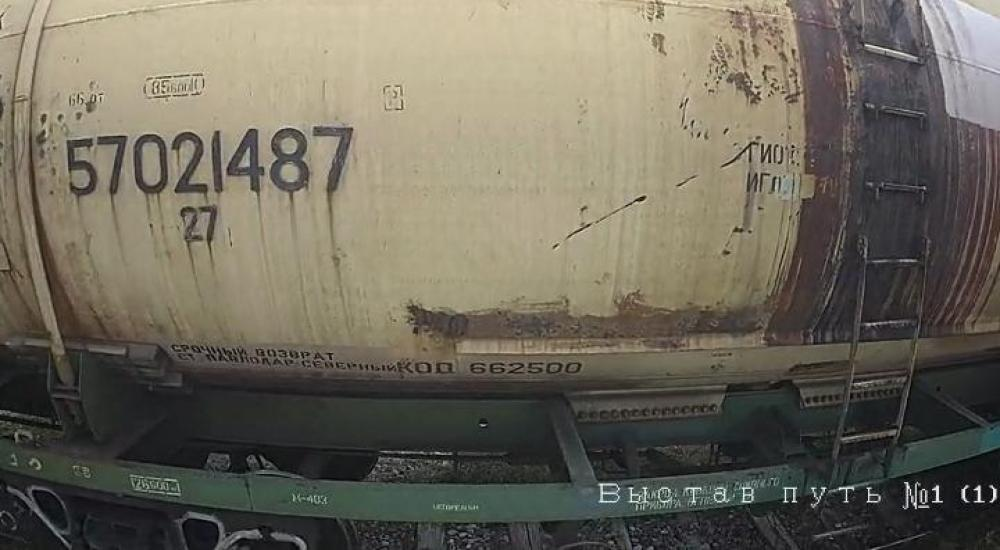Wagon-number: (62, 122, 359, 206)
